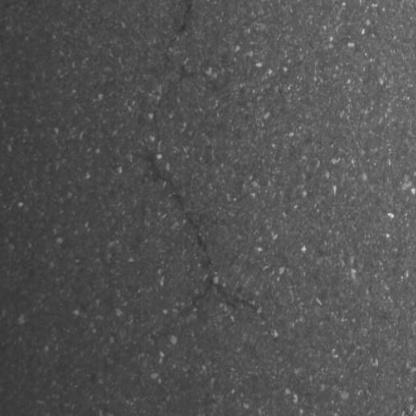Cracks: (141, 67, 264, 322), (173, 0, 197, 39)
